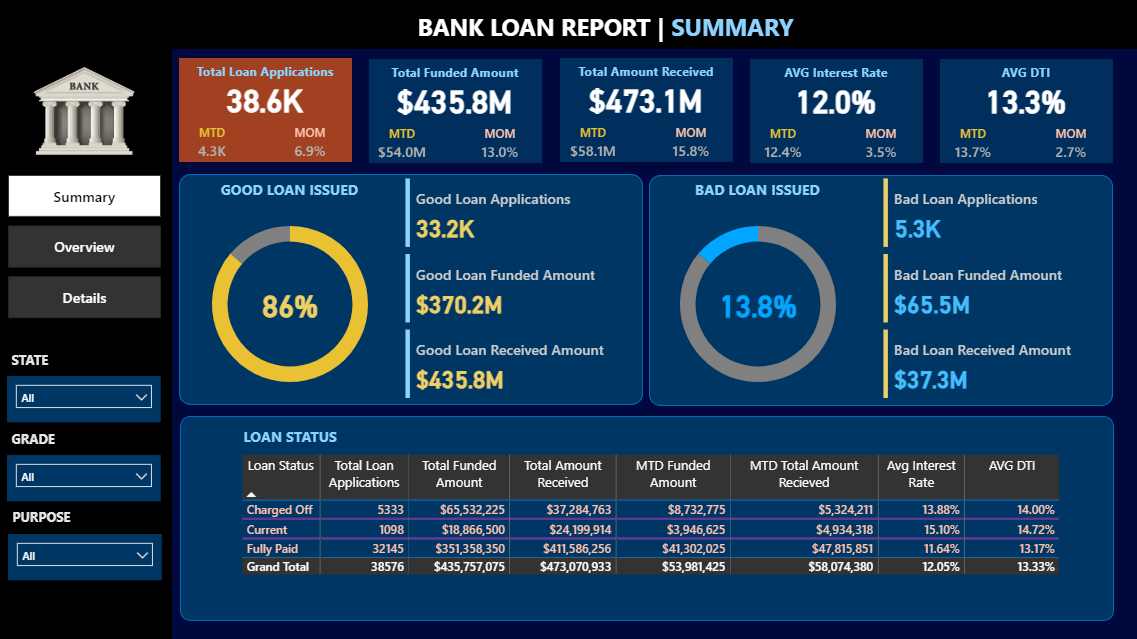

The page's visual inventory and layout, read from the dashboard file:
{"tool":"powerbi","page":{"name":"Summary","canvas":[1280,720],"ordinal":0},"visuals":[{"type":"shape","box":[0,0,1280,55],"z":0},{"type":"shape","box":[201.1,65.2,194.6,117],"z":0,"group":"g1"},{"type":"shape","box":[629.2,65.2,194.6,117],"z":0,"group":"g3"},{"type":"shape","box":[415.2,66.4,194.6,117],"z":0,"group":"g2"},{"type":"shape","box":[843.2,66.4,194.6,117],"z":0,"group":"g4"},{"type":"shape","box":[1057.2,66.4,194.6,117],"z":0,"group":"g5"},{"type":"shape","box":[0,55.1,193.5,664.9],"z":1000},{"type":"card","fields":{"Values":["financial_loan.Total Loan Applications"]},"box":[181.1,81.3,232.9,59.6],"z":1000,"group":"g1"},{"type":"card","fields":{"Values":["financial_loan.Total Amount Received"]},"box":[609.2,81.3,232.9,59.6],"z":1000,"group":"g3"},{"type":"card","fields":{"Values":["financial_loan.Total Funded Amount"]},"box":[395.2,82.5,232.9,59.6],"z":1000,"group":"g2"},{"type":"card","fields":{"Values":["financial_loan.Avg Interest Rate"]},"box":[823.2,82.5,232.9,59.6],"z":1000,"group":"g4"},{"type":"card","fields":{"Values":["financial_loan.AVG DTI"]},"box":[1037.2,82.5,232.9,59.6],"z":1000,"group":"g5"},{"type":"textbox","box":[464.6,6.8,439.9,48.4],"z":2000},{"type":"textbox","box":[172.1,65.6,252,31.5],"z":2000,"group":"g1"},{"type":"textbox","box":[600.2,65.6,252,31.5],"z":2000,"group":"g3"},{"type":"textbox","box":[386.2,66.8,252,31.5],"z":2000,"group":"g2"},{"type":"textbox","box":[814.2,66.8,252,31.5],"z":2000,"group":"g4"},{"type":"textbox","box":[1028.2,66.8,252,31.5],"z":2000,"group":"g5"},{"type":"textbox","box":[226.1,196.9,199.1,31.5],"z":2000,"group":"g6"},{"type":"textbox","box":[752.6,196.9,199.1,31.5],"z":2000,"group":"g7"},{"type":"textbox","box":[7.9,389.4,68.6,31.5],"z":2000,"group":"g9"},{"type":"textbox","box":[268.9,474.8,131.6,31.5],"z":2000,"group":"g8"},{"type":"textbox","box":[7.9,477.9,68.6,31.5],"z":2000,"group":"g10"},{"type":"textbox","box":[9,566.4,111.4,31.5],"z":2000,"group":"g11"},{"type":"card","title":"MTD","fields":{"Values":["financial_loan.MTD Loan Applications"]},"box":[201.3,140.9,74.2,41.6],"z":3000,"group":"g1"},{"type":"card","title":"MTD","fields":{"Values":["financial_loan.MTD Total Amount Recieved"]},"box":[629.4,140.9,74.2,41.6],"z":3000,"group":"g3"},{"type":"card","title":"MTD","fields":{"Values":["financial_loan.MTD Funded Amount"]},"box":[415.4,142.1,74.2,41.6],"z":3000,"group":"g2"},{"type":"card","title":"MTD","fields":{"Values":["financial_loan.MTD AVG Int Rate"]},"box":[843.4,142.1,74.2,41.6],"z":3000,"group":"g4"},{"type":"card","title":"MTD","fields":{"Values":["financial_loan.MTD AVG DTI"]},"box":[1057.4,142.1,74.2,41.6],"z":3000,"group":"g5"},{"type":"shape","box":[201.4,195.8,522,259.9],"z":3000},{"type":"card","title":"MOM","fields":{"Values":["financial_loan.MOM Loan Applications"]},"box":[311.6,140.9,74.2,41.6],"z":4000,"group":"g1"},{"type":"card","title":"MOM","fields":{"Values":["financial_loan.MOM Total Received Amount"]},"box":[739.7,140.9,74.2,41.6],"z":4000,"group":"g3"},{"type":"card","title":"MOM","fields":{"Values":["financial_loan.MOM Total Funded Amount"]},"box":[525.7,142.1,74.2,41.6],"z":4000,"group":"g2"},{"type":"card","title":"MOM","fields":{"Values":["financial_loan.MOM AVG Int Rate"]},"box":[953.7,142.1,74.2,41.6],"z":4000,"group":"g4"},{"type":"card","title":"MOM","fields":{"Values":["financial_loan.MOM AVG DTI"]},"box":[1167.7,142.1,74.2,41.6],"z":4000,"group":"g5"},{"type":"donutChart","fields":{"Category":["financial_loan.Good vs Bad Loan"],"Y":["financial_loan.Total Loan Applications"]},"box":[201.4,227.2,249.8,229.5],"z":4000},{"type":"card","fields":{"Values":["financial_loan.Good Loan %"]},"box":[211.5,311.6,229.5,59.6],"z":5000},{"type":"group","id":"g1","title":"Group 1","box":[172.1,65.2,252,117],"z":6000},{"type":"group","id":"g2","title":"Group 1","box":[386.2,66.4,252,117],"z":7000},{"type":"group","id":"g3","title":"Group 1","box":[600.2,65.2,252,117],"z":8000},{"type":"group","id":"g4","title":"Group 1","box":[814.2,66.4,252,117],"z":9000},{"type":"group","id":"g5","title":"Group 1","box":[1028.2,66.4,252,117],"z":10000},{"type":"shape","box":[730.1,196.9,522,259.9],"z":11000},{"type":"group","id":"g6","title":"Group 1","box":[226.1,196.9,199.1,31.5],"z":12000},{"type":"cardVisual","fields":{"Data":["financial_loan.Good Loan Applications","financial_loan.Good Loan Funded Amount","financial_loan.Good Loan Received Amount"]},"box":[451.1,195.8,253.1,259.9],"z":13000},{"type":"donutChart","fields":{"Category":["financial_loan.Good vs Bad Loan"],"Y":["financial_loan.Total Loan Applications"]},"box":[727.9,227.2,249.8,229.5],"z":14000},{"type":"group","id":"g7","title":"Group 1","box":[752.6,196.9,199.1,31.5],"z":15000},{"type":"card","fields":{"Values":["financial_loan.Bad Loan %"]},"box":[738,311.6,229.5,59.6],"z":16000},{"type":"cardVisual","fields":{"Data":["financial_loan.Bad Loan Applications","financial_loan.Bad Loan Funded Amount","financial_loan.Bad Loan Received Amount"]},"box":[988.9,195.8,253.1,259.9],"z":17000},{"type":"shape","box":[202.5,468,1050.8,230.6],"z":18000},{"type":"tableEx","fields":{"Values":["financial_loan.loan_status","financial_loan.Total Loan Applications","financial_loan.Total Funded Amount","financial_loan.Total Amount Received","financial_loan.MTD Funded Amount","financial_loan.MTD Total Amount Recieved","financial_loan.Avg Interest Rate","financial_loan.AVG DTI"]},"box":[266.6,506.2,930.4,145.1],"z":19000},{"type":"group","id":"g8","title":"Group 1","box":[268.9,474.8,131.6,31.5],"z":20000},{"type":"slicer","fields":{"Values":["financial_loan.address_state"]},"box":[7.9,423.5,173.2,51.8],"z":21000},{"type":"group","id":"g9","title":"Group 1","box":[7.9,389.4,68.6,31.5],"z":22000},{"type":"slicer","fields":{"Values":["financial_loan.grade"]},"box":[7.9,512,173.2,51.8],"z":23000},{"type":"group","id":"g10","title":"Group 1","box":[7.9,477.9,68.6,31.5],"z":24000},{"type":"slicer","fields":{"Values":["financial_loan.purpose"]},"box":[8.9,600.5,173.2,51.8],"z":25000},{"type":"group","id":"g11","title":"Group 1","box":[9,566.4,111.4,31.5],"z":26000},{"type":"image","box":[32.6,65.2,123.8,118.1],"z":27000},{"type":"pageNavigator","box":[9,196.9,172.1,163.1],"z":28000}]}

Visuals, with their boxes in screenshot pixels (x1, y1, x2, y2), scaled from the page's 1280x720 canvas onto the 1137x639 screenshot:
shape: select_region(0, 0, 1136, 49)
shape: select_region(179, 58, 351, 162)
shape: select_region(559, 58, 732, 162)
shape: select_region(369, 59, 542, 163)
shape: select_region(749, 59, 922, 163)
shape: select_region(939, 59, 1112, 163)
shape: select_region(0, 49, 172, 638)
card - financial_loan.Total Loan Applications: select_region(161, 72, 368, 125)
card - financial_loan.Total Amount Received: select_region(541, 72, 748, 125)
card - financial_loan.Total Funded Amount: select_region(351, 73, 558, 126)
card - financial_loan.Avg Interest Rate: select_region(731, 73, 938, 126)
card - financial_loan.AVG DTI: select_region(921, 73, 1128, 126)
textbox: select_region(413, 6, 803, 49)
textbox: select_region(153, 58, 377, 86)
textbox: select_region(533, 58, 757, 86)
textbox: select_region(343, 59, 567, 87)
textbox: select_region(723, 59, 947, 87)
textbox: select_region(913, 59, 1136, 87)
textbox: select_region(201, 175, 378, 203)
textbox: select_region(669, 175, 845, 203)
textbox: select_region(7, 346, 68, 374)
textbox: select_region(239, 421, 356, 449)
textbox: select_region(7, 424, 68, 452)
textbox: select_region(8, 503, 107, 531)
"MTD" card: select_region(179, 125, 245, 162)
"MTD" card: select_region(559, 125, 625, 162)
"MTD" card: select_region(369, 126, 435, 163)
"MTD" card: select_region(749, 126, 815, 163)
"MTD" card: select_region(939, 126, 1005, 163)
shape: select_region(179, 174, 643, 404)
"MOM" card: select_region(277, 125, 343, 162)
"MOM" card: select_region(657, 125, 723, 162)
"MOM" card: select_region(467, 126, 533, 163)
"MOM" card: select_region(847, 126, 913, 163)
"MOM" card: select_region(1037, 126, 1103, 163)
donutChart - financial_loan.Good vs Bad Loan x financial_loan.Total Loan Applications: select_region(179, 202, 401, 405)
card - financial_loan.Good Loan %: select_region(188, 277, 392, 329)
"Group 1" group: select_region(153, 58, 377, 162)
"Group 1" group: select_region(343, 59, 567, 163)
"Group 1" group: select_region(533, 58, 757, 162)
"Group 1" group: select_region(723, 59, 947, 163)
"Group 1" group: select_region(913, 59, 1136, 163)
shape: select_region(649, 175, 1112, 405)
"Group 1" group: select_region(201, 175, 378, 203)
cardVisual - financial_loan.Good Loan Applications x financial_loan.Good Loan Funded Amount: select_region(401, 174, 626, 404)
donutChart - financial_loan.Good vs Bad Loan x financial_loan.Total Loan Applications: select_region(647, 202, 868, 405)
"Group 1" group: select_region(669, 175, 845, 203)
card - financial_loan.Bad Loan %: select_region(656, 277, 859, 329)
cardVisual - financial_loan.Bad Loan Applications x financial_loan.Bad Loan Funded Amount: select_region(878, 174, 1103, 404)
shape: select_region(180, 415, 1113, 620)
tableEx - financial_loan.loan_status x financial_loan.Total Loan Applications: select_region(237, 449, 1063, 578)
"Group 1" group: select_region(239, 421, 356, 449)
slicer - financial_loan.address_state: select_region(7, 376, 161, 422)
"Group 1" group: select_region(7, 346, 68, 374)
slicer - financial_loan.grade: select_region(7, 454, 161, 500)
"Group 1" group: select_region(7, 424, 68, 452)
slicer - financial_loan.purpose: select_region(8, 533, 162, 579)
"Group 1" group: select_region(8, 503, 107, 531)
image: select_region(29, 58, 139, 163)
pageNavigator: select_region(8, 175, 161, 320)
